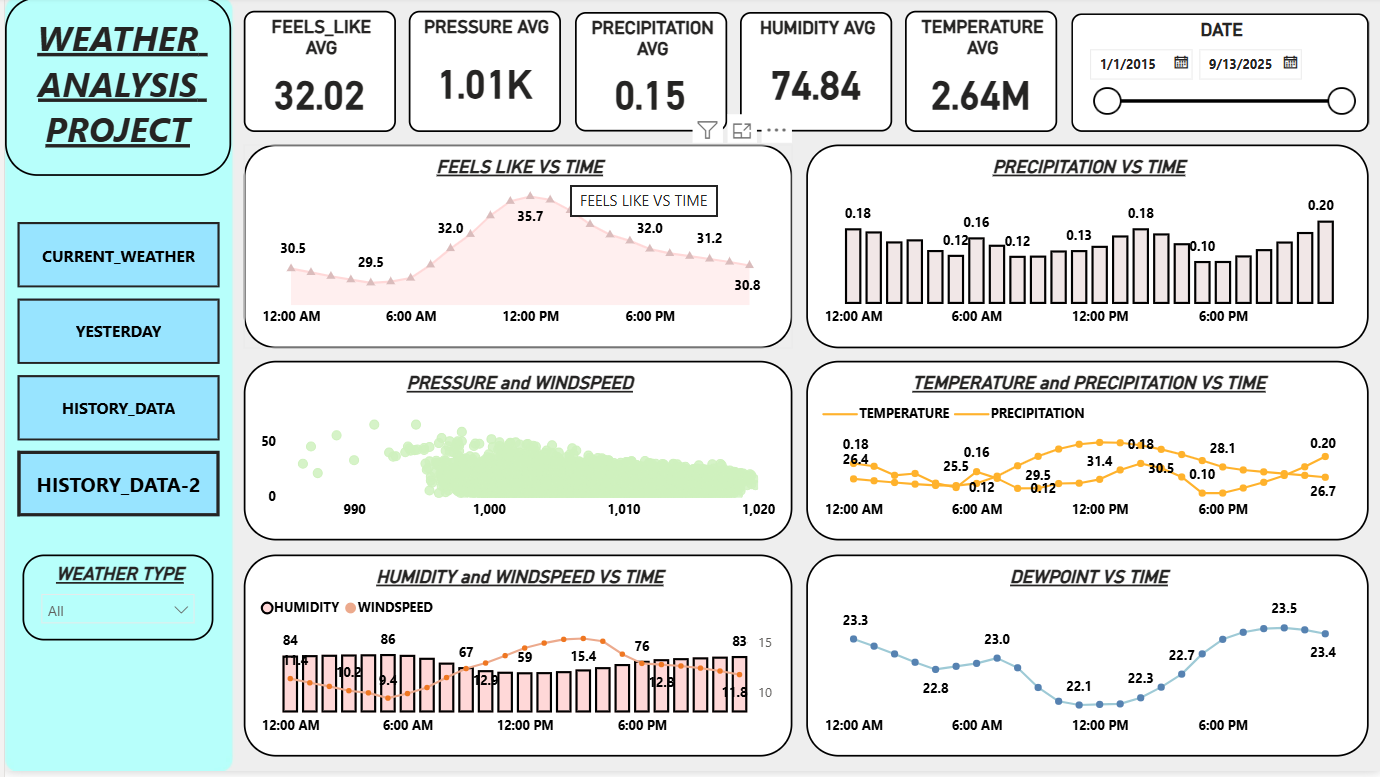

The page's visual inventory and layout, read from the dashboard file:
{"tool":"powerbi","page":{"name":"HISTORY_DATA-2","canvas":[1280,720],"ordinal":3},"visuals":[{"type":"card","title":"FEELS_LIKE AVG","fields":{"Values":["Avg(HISTORY_DATA.APPARENT_TEMPERATURE)"]},"box":[222.3,12.3,141.3,112.5],"z":0},{"type":"card","title":"PRESSURE AVG","fields":{"Values":["Avg(HISTORY_DATA.SURFACE_PRESSURE)"]},"box":[376,12.3,141.3,112.5],"z":1000},{"type":"card","title":"PRECIPITATION AVG","fields":{"Values":["Avg(HISTORY_DATA.PRECIPITATION)"]},"box":[529.7,13.7,141.3,111.1],"z":2000},{"type":"card","title":"HUMIDITY AVG","fields":{"Values":["Avg(HISTORY_DATA.RELATIVE_HUMIDITY_2M)"]},"box":[683.4,13.7,141.3,111.1],"z":3000},{"type":"card","title":"TEMPERATURE AVG","fields":{"Values":["Sum(HISTORY_DATA.TEMPERATURE_2M)"]},"box":[837.1,12.3,141.3,112.5],"z":4000},{"type":"areaChart","title":"FEELS LIKE VS TIME","fields":{"Category":["HISTORY_DATA.TIME"],"Y":["Avg(HISTORY_DATA.APPARENT_TEMPERATURE)"]},"box":[222.3,137.2,510.5,189.4],"z":5000},{"type":"columnChart","title":"PRECIPITATION VS TIME","fields":{"Category":["HISTORY_DATA.TIME"],"Y":["Avg(HISTORY_DATA.PRECIPITATION)"]},"box":[745.1,137.2,522.8,189.4],"z":6000},{"type":"scatterChart","title":"PRESSURE and WINDSPEED","fields":{"X":["HISTORY_DATA.SURFACE_PRESSURE"],"Y":["HISTORY_DATA.WINDSPEED_10M"]},"box":[222.3,338.9,510.5,167.4],"z":7000},{"type":"lineChart","title":"TEMPERATURE and PRECIPITATION VS TIME","fields":{"Category":["HISTORY_DATA.TIME"],"Y":["Avg(HISTORY_DATA.TEMPERATURE_2M)"],"Y2":["Avg(HISTORY_DATA.PRECIPITATION)"]},"box":[745.1,338.9,522.8,167.4],"z":8000},{"type":"lineStackedColumnComboChart","title":"HUMIDITY and WINDSPEED VS TIME","fields":{"Category":["HISTORY_DATA.TIME"],"Y":["Avg(HISTORY_DATA.RELATIVE_HUMIDITY_2M)"],"Y2":["Avg(HISTORY_DATA.WINDSPEED_10M)"]},"box":[222.3,518.7,510.5,188],"z":9000},{"type":"lineChart","title":"DEWPOINT VS TIME","fields":{"Category":["HISTORY_DATA.TIME"],"Y":["Avg(HISTORY_DATA.DEWPOINT_2M)"]},"box":[745.1,518.7,522.8,188],"z":10000},{"type":"textbox","box":[0,0,210.5,166.3],"z":11000},{"type":"pageNavigator","box":[11.6,209.3,188.4,274.4],"z":12000},{"type":"slicer","title":"WEATHER TYPE","fields":{"Values":["HISTORY_DATA.WEATHER_TYPE"]},"box":[16.3,518.6,177.9,80.2],"z":13000},{"type":"slicer","title":"DATE","fields":{"Values":["HISTORY_DATA.DATE"]},"box":[991.9,15.1,276.7,110.5],"z":14000}]}

Visuals, with their boxes in screenshot pixels (x1, y1, x2, y2), scaled from the page's 1280x720 canvas onto the 1380x777 screenshot:
"FEELS_LIKE AVG" card: 240 13 392 135
"PRESSURE AVG" card: 405 13 558 135
"PRECIPITATION AVG" card: 571 15 723 135
"HUMIDITY AVG" card: 737 15 889 135
"TEMPERATURE AVG" card: 902 13 1055 135
"FEELS LIKE VS TIME" areaChart: 240 148 790 352
"PRECIPITATION VS TIME" columnChart: 803 148 1367 352
"PRESSURE and WINDSPEED" scatterChart: 240 366 790 546
"TEMPERATURE and PRECIPITATION VS TIME" lineChart: 803 366 1367 546
"HUMIDITY and WINDSPEED VS TIME" lineStackedColumnComboChart: 240 560 790 763
"DEWPOINT VS TIME" lineChart: 803 560 1367 763
textbox: 0 0 227 179
pageNavigator: 13 226 216 522
"WEATHER TYPE" slicer: 18 560 209 646
"DATE" slicer: 1069 16 1368 136
